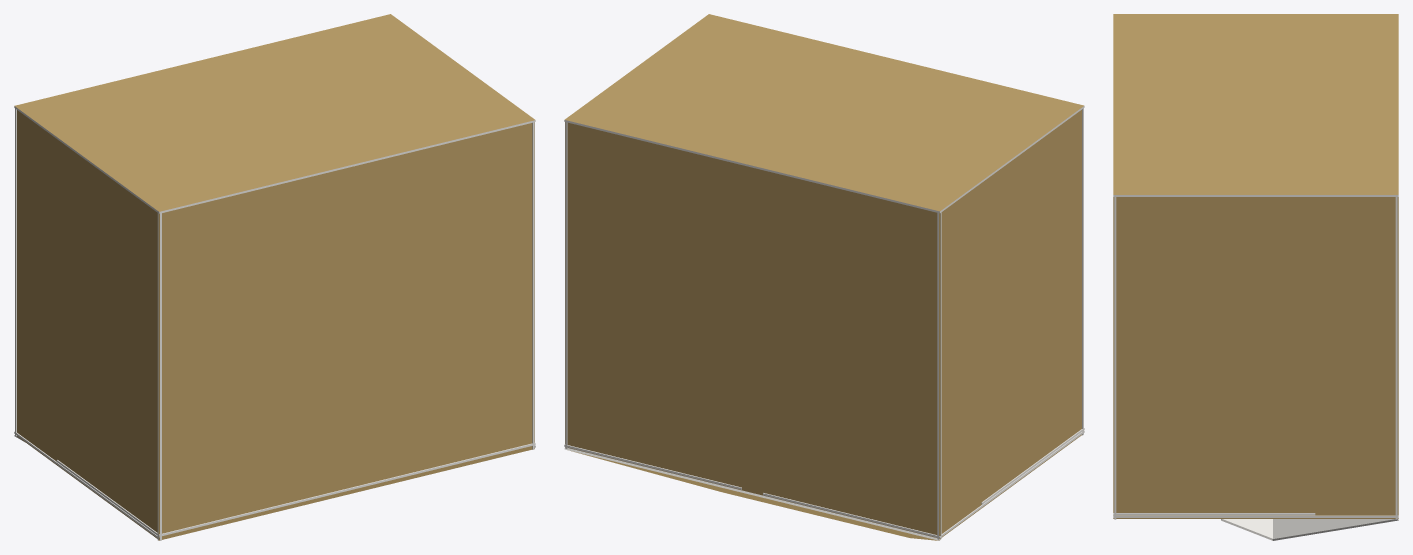
3 views of the same model, side by side, from view 1: azimuth 30°, elevation 25°; view 2: azimuth 150°, elevation 25°; view 3: azimuth 270°, elevation 25° (orthographic).
Parts seen in each view (by area): view 1: Packive_Box_fefco0217; view 2: Packive_Box_fefco0217; view 3: Packive_Box_fefco0217.
Part boxes in pixels (x1,y1,x2,y2): Packive_Box_fefco0217: (14, 14, 535, 540); Packive_Box_fefco0217: (564, 14, 1084, 540); Packive_Box_fefco0217: (1113, 14, 1398, 540).
Bounding box in the file's own units: 0.3 × 0.3023 × 0.2.
Materials: 26 (13 with a texture image).
